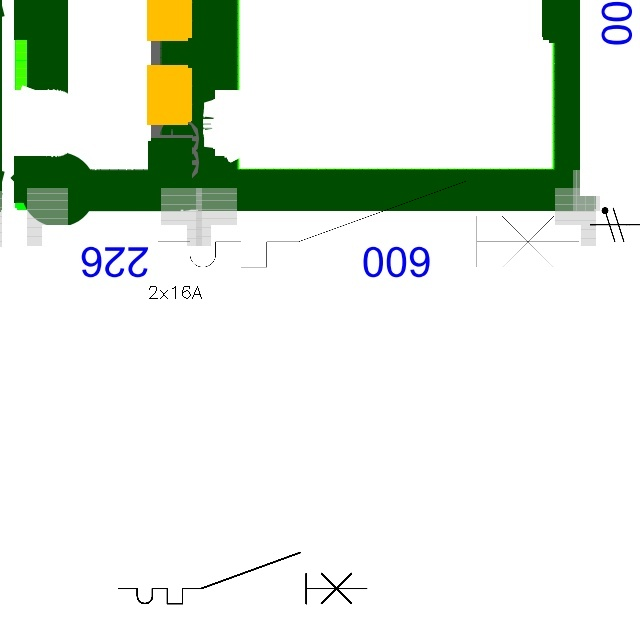interruptor_termomagnetico: (147, 170, 590, 278), (112, 546, 373, 610)
